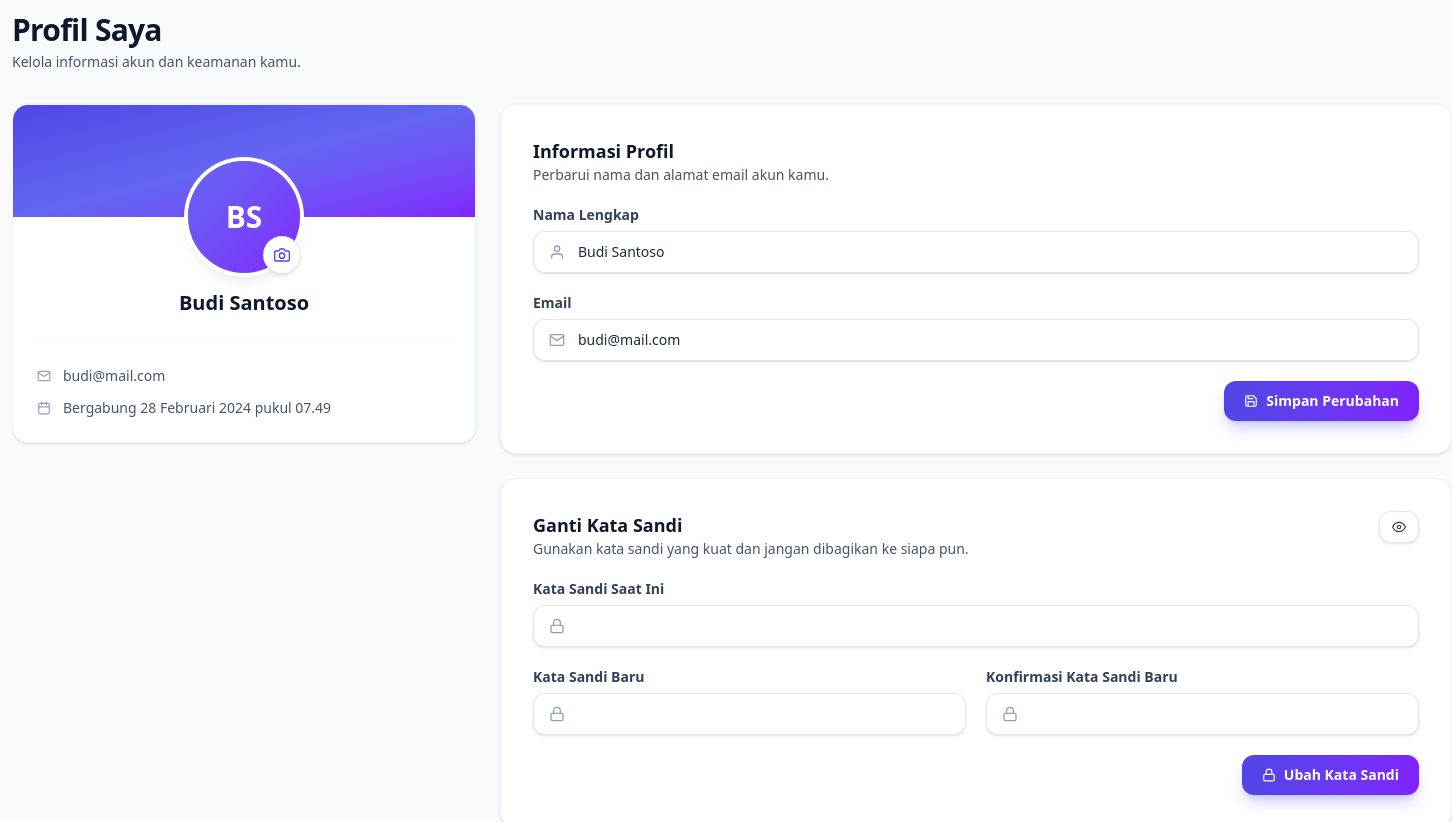
Scenario: ProfilePage › informasi profil › berhasil: mengirim data lalu menyegarkan profil
Replace the text in the field labelled "Nama Lengkap" with "  Nama Baru " at (976, 252), box 533,231 -> 1419,273
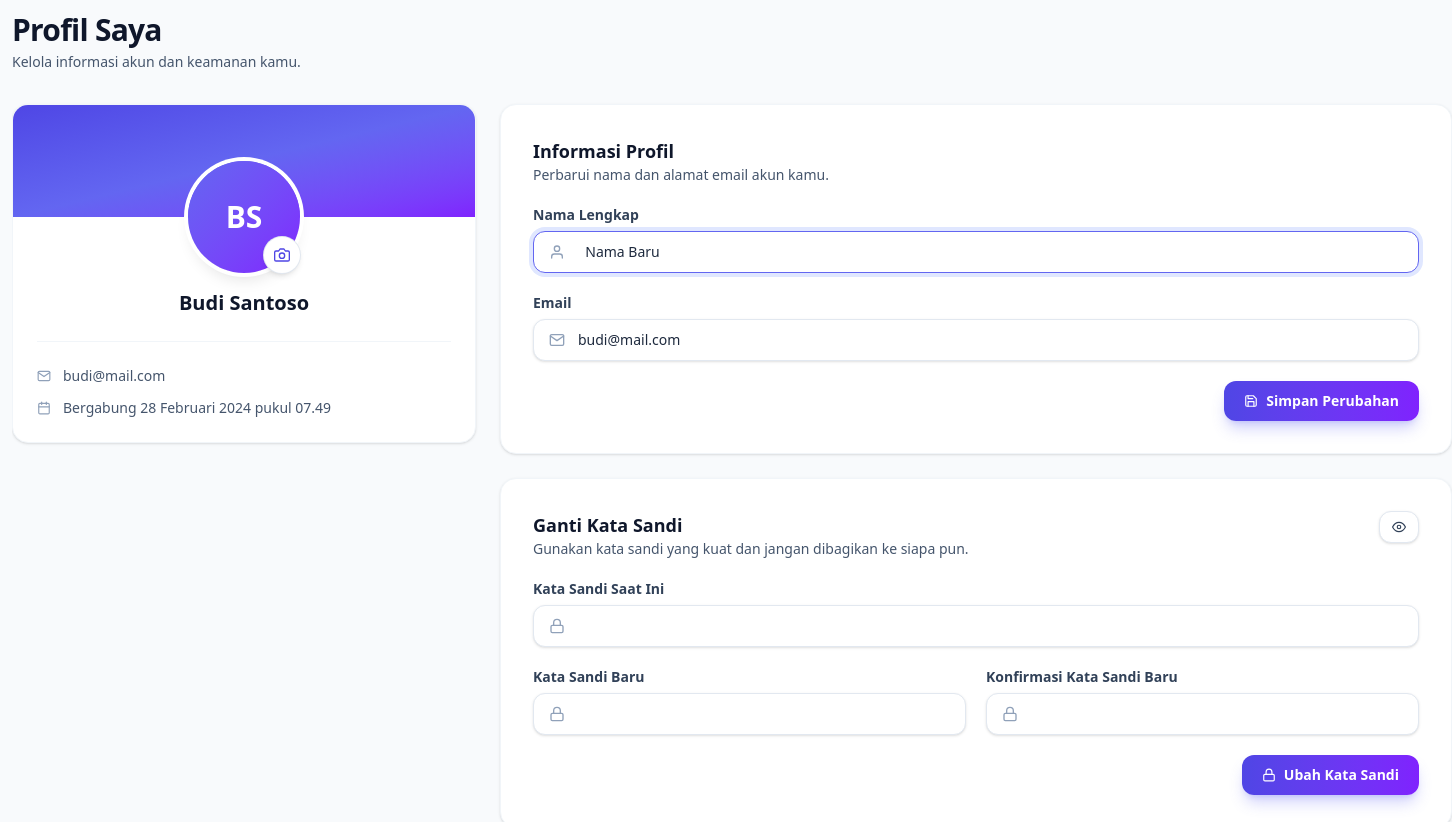
Click the button "Simpan Perubahan".
click(1322, 401)  # box 1224,381 -> 1419,421
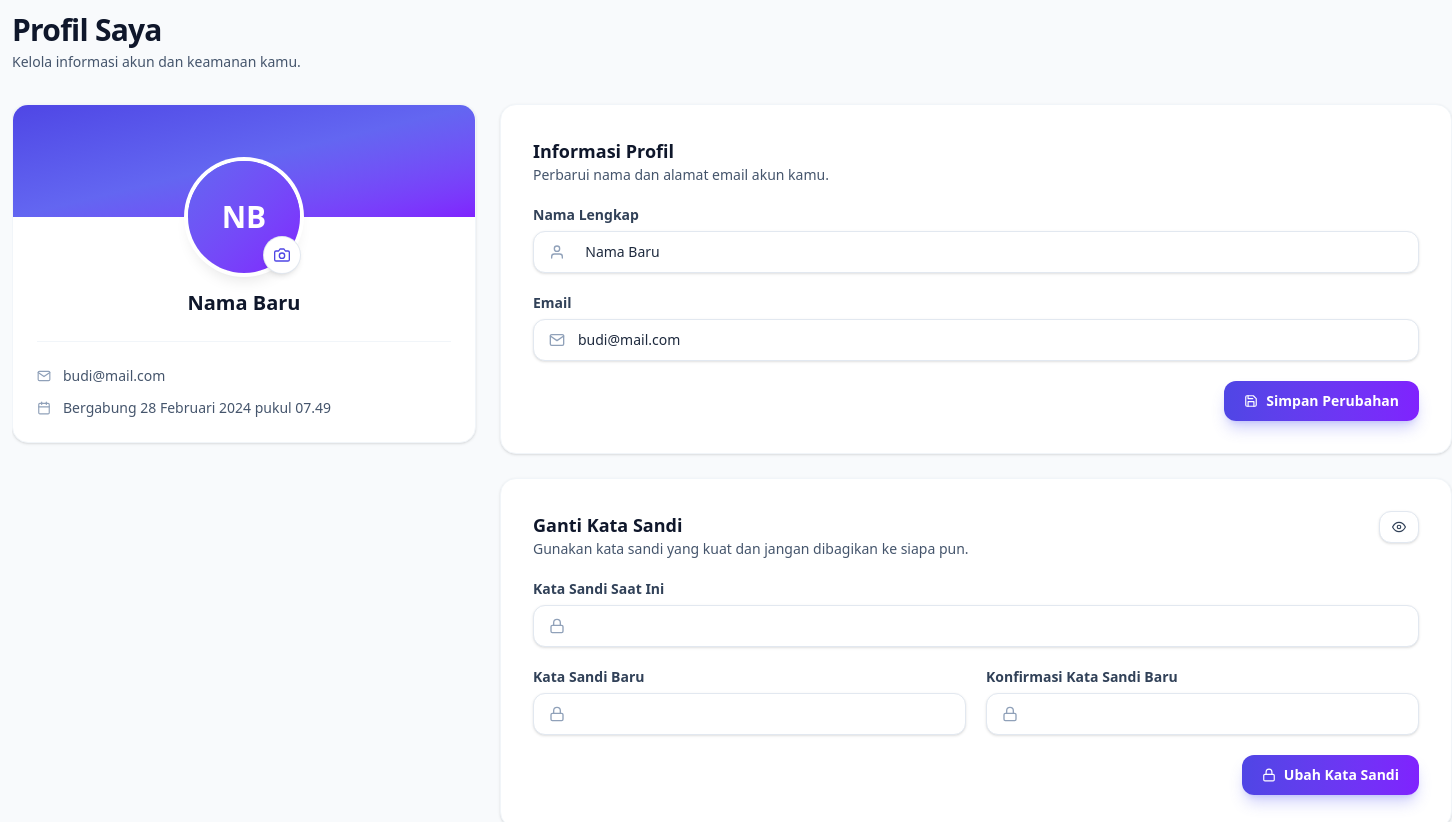
Now the heading "Nama Baru" is shown, box 188,289 -> 300,316
